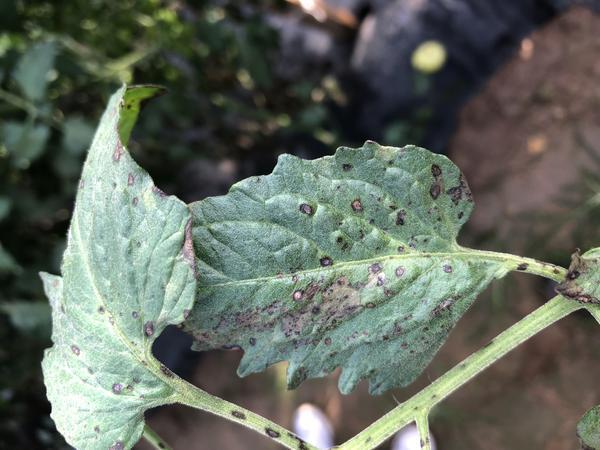black-spot: (291, 182, 409, 282)
